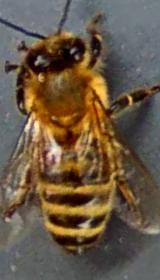varroa_mite: (37, 144, 61, 170)
